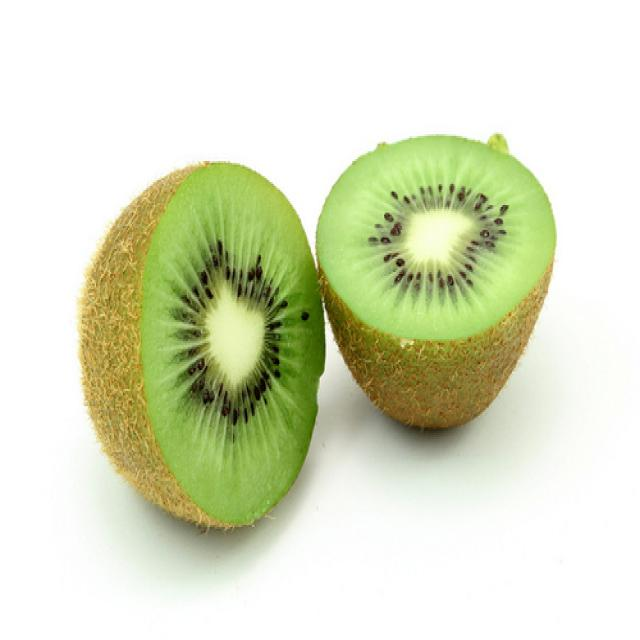Qiwi: (306, 129, 581, 409), (109, 158, 321, 515)
